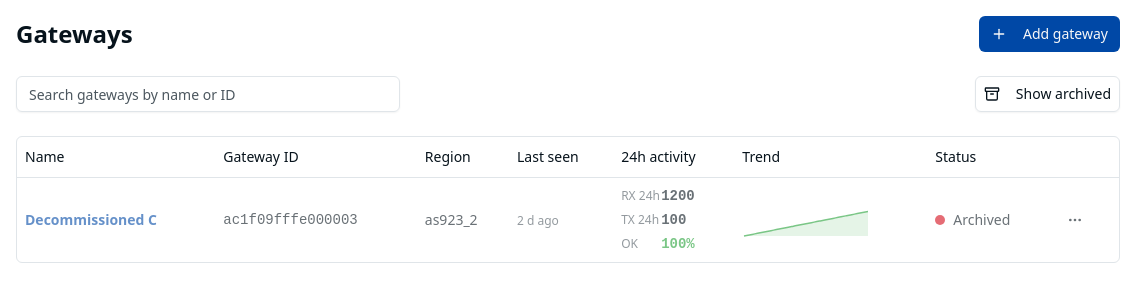
Test: GatewaysPage (Plan 03-08 Task 2) › TestGatewaysList_RestoreAction_AdminVisible — Restore in archived row menu
This screenshot has width=1137, height=303.
Expected: the link "Decommissioned C" is shown, [25, 210, 157, 228]
Note: Open row action menu.
Click the button named "Row actions" at (1075, 220), box [1057, 204, 1093, 236]
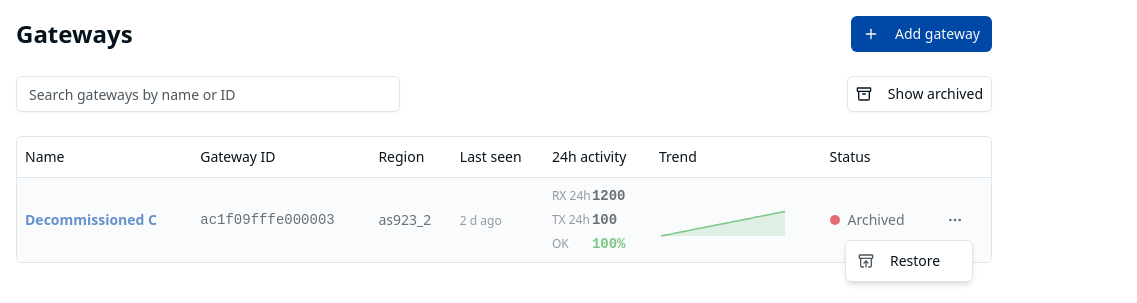
Expected: the menu item "Restore" is shown, [858, 251, 940, 270]
